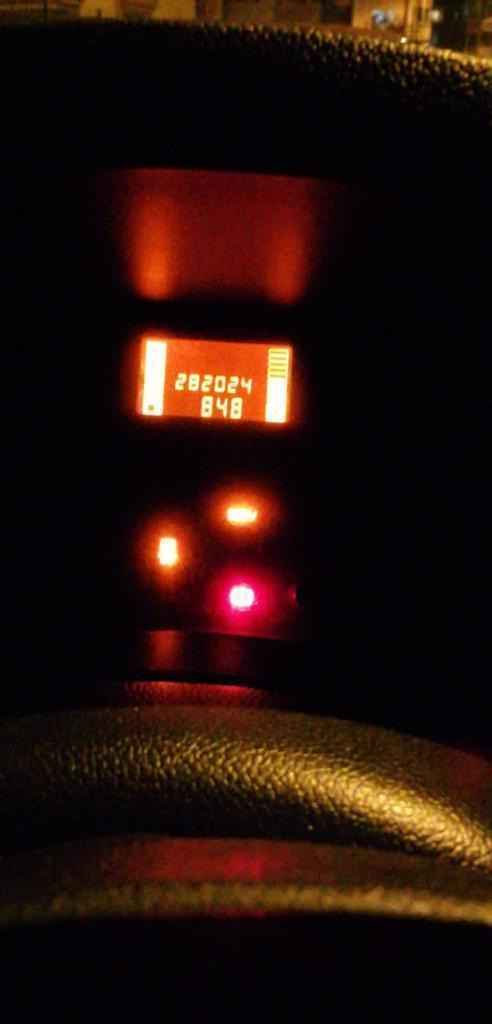0: (213, 374, 225, 392)
2: (173, 371, 187, 391), (227, 374, 239, 393), (200, 373, 212, 392)
4: (239, 374, 252, 394), (215, 396, 227, 417)
8: (229, 396, 243, 418), (199, 395, 213, 417), (188, 373, 199, 391)
odometer: (130, 331, 297, 427)
